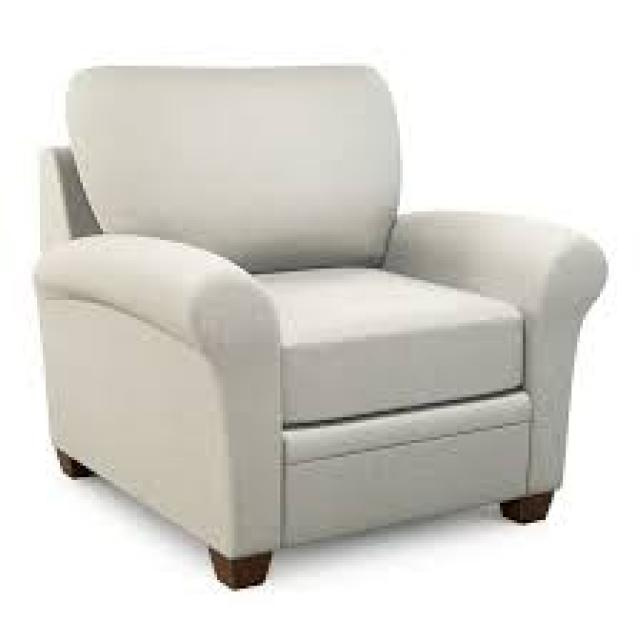chair: (18, 30, 618, 628)
